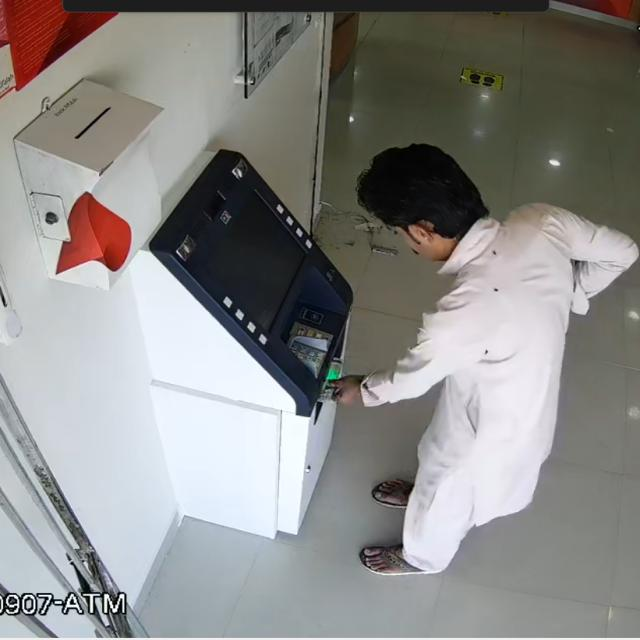note: (305, 346, 350, 408)
